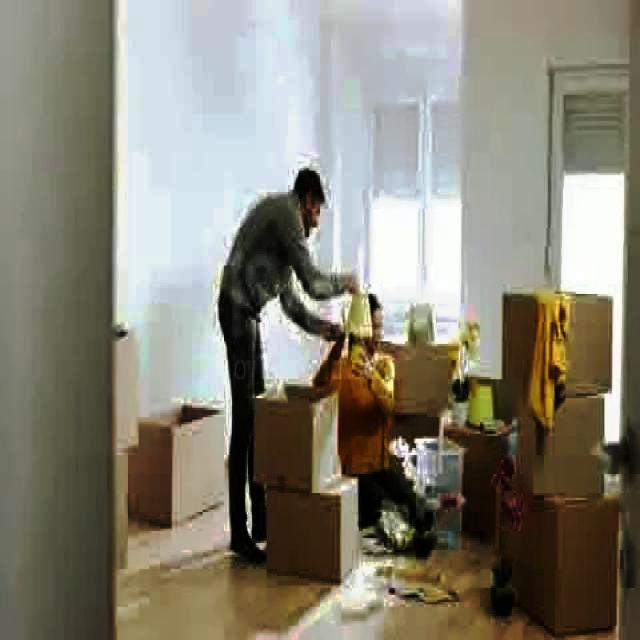Box: (500, 481, 626, 634), (496, 287, 612, 398), (146, 401, 227, 516), (520, 394, 606, 500), (268, 485, 358, 581), (252, 379, 334, 484)
